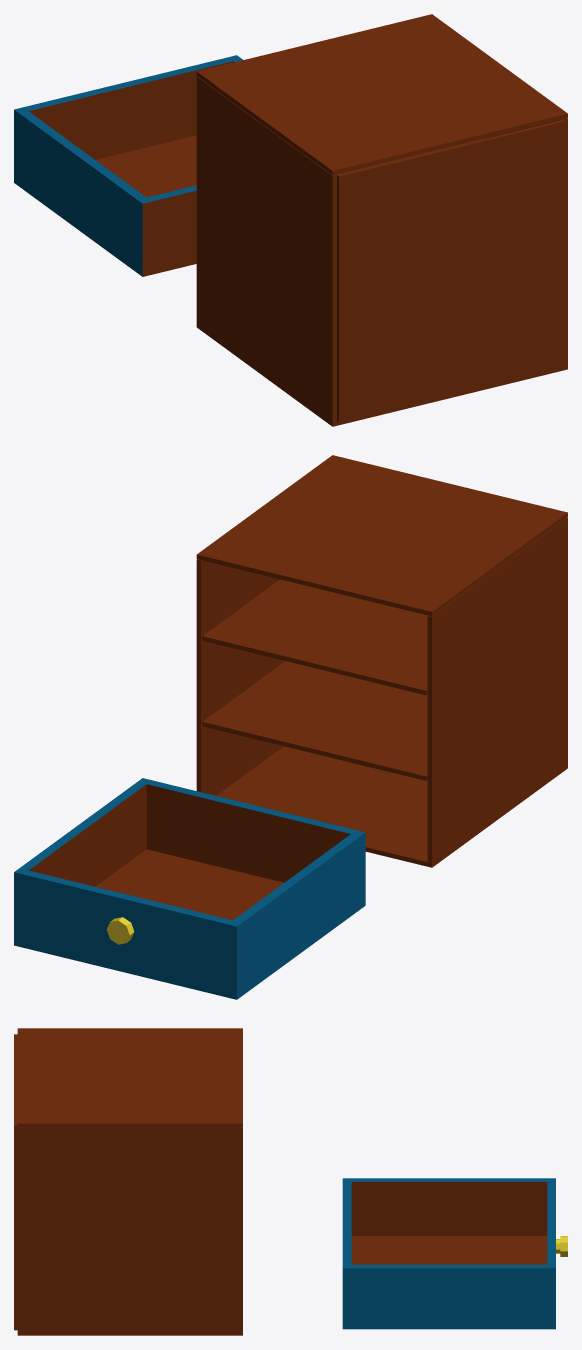
File: Drawer.fbx
3 views of the same model, one above another, from view 1: azimuth 30°, elevation 25°; view 2: azimuth 150°, elevation 25°; view 3: azimuth 270°, elevation 25° (orthographic). The views are drawn at different scales.
Parts seen in each view (by area): view 1: TableBody, Plane.001, Drawer; view 2: TableBody, Drawer, Plane.001; view 3: Plane.001, Drawer, TableBody.
Boxes of the visible parts, x1,y1,x2,y2 form: TableBody: (196, 14, 567, 426); Plane.001: (196, 76, 567, 422); Drawer: (14, 55, 242, 276); TableBody: (196, 455, 567, 867); Drawer: (14, 778, 365, 999); Plane.001: (196, 517, 567, 863); Plane.001: (17, 1127, 242, 1331); Drawer: (342, 1178, 567, 1329); TableBody: (14, 1028, 242, 1335).
Size of the model in its own units: 547 by 568 by 1345.
